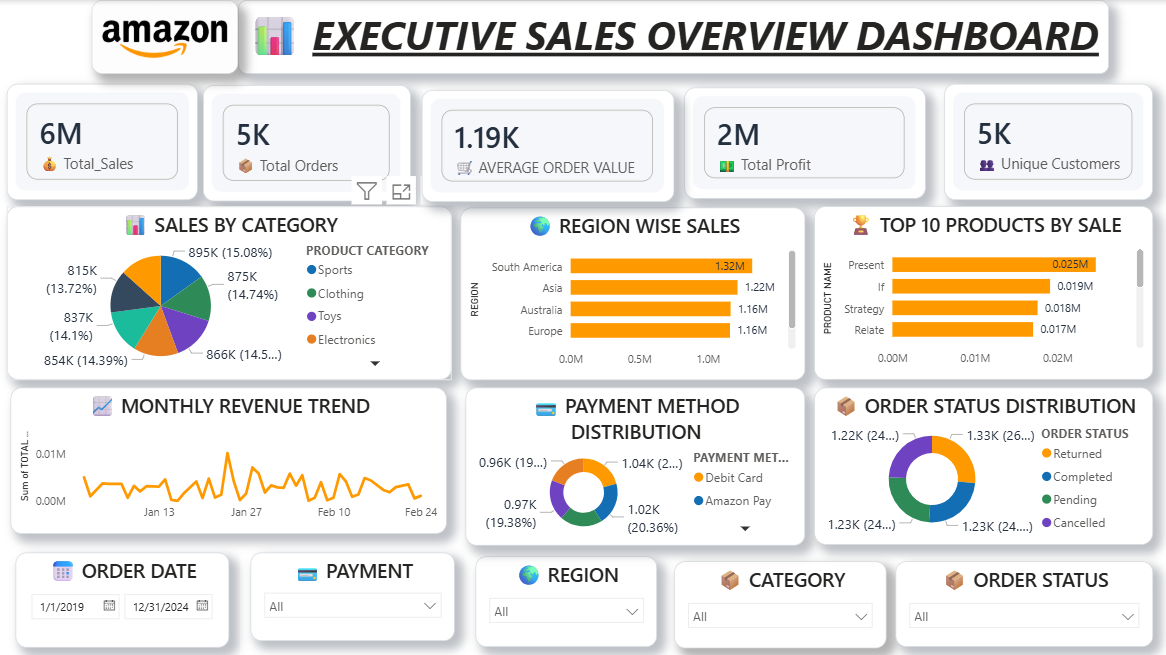

The dashboard page shown, as its layout file describes it:
{"tool":"powerbi","page":{"name":"Page 1","canvas":[1280,720],"ordinal":0},"visuals":[{"type":"textbox","box":[262.3,0,952.4,80.6],"z":0},{"type":"cardVisual","fields":{"Data":["public amazon_sales.Total_Sales"]},"box":[9.6,91.5,209.1,127.1],"z":1000},{"type":"cardVisual","fields":{"Data":["public amazon_sales.Total Profit"]},"box":[750.1,95.6,263.7,121.6],"z":2000},{"type":"cardVisual","fields":{"Data":["public amazon_sales.Total Orders"]},"box":[224.1,92.9,226.8,127.1],"z":3000},{"type":"cardVisual","fields":{"Data":["public amazon_sales.Unique Customers"]},"box":[1034.3,91.5,228.2,127.1],"z":4000},{"type":"pieChart","title":" 📊 SALES BY CATEGORY","fields":{"Category":["public amazon_sales.PRODUCT CATEGORY"],"Y":["Sum(public amazon_sales.TOTAL SALES)"]},"box":[9.6,225.4,486.4,189.9],"z":5000},{"type":"lineChart","title":"📈 MONTHLY REVENUE TREND","fields":{"Y":["Sum(public amazon_sales.TOTAL SALES)"],"Category":["public amazon_sales.ORDER DATE"]},"box":[13.7,423.6,476.9,159.9],"z":6000},{"type":"clusteredBarChart","title":"🌍 REGION WISE SALES","fields":{"Category":["public amazon_sales.REGION"],"Y":["Sum(public amazon_sales.TOTAL SALES)"]},"box":[504.9,226.3,376.6,189],"z":7000},{"type":"clusteredBarChart","title":"🏆 TOP 10 PRODUCTS BY SALE","fields":{"Category":["public amazon_sales.PRODUCT NAME"],"Y":["Sum(public amazon_sales.TOTAL SALES)"]},"box":[891.9,225,370.5,189.4],"z":8000},{"type":"slicer","title":"  📅 ORDER DATE","fields":{"Values":["public amazon_sales.ORDER DATE"]},"box":[19.1,603.9,233.6,103.8],"z":9000},{"type":"slicer","title":" 🌍 REGION","fields":{"Values":["public amazon_sales.REGION"]},"box":[521.5,608.4,198.7,99.3],"z":10000},{"type":"slicer","title":"📦 CATEGORY","fields":{"Values":["public amazon_sales.PRODUCT CATEGORY"]},"box":[739.5,613.9,231.8,95.2],"z":11000},{"type":"image","box":[102.5,0,159.9,80.6],"z":12000},{"type":"donutChart","title":"💳 PAYMENT METHOD DISTRIBUTION","fields":{"Category":["public amazon_sales.PAYMENT METHOD"],"Y":["CountNonNull(public amazon_sales.ORDER ID)"]},"box":[510.5,423.5,371.1,172.5],"z":13000},{"type":"donutChart","title":"📦 ORDER STATUS DISTRIBUTION","fields":{"Category":["public amazon_sales.ORDER STATUS"],"Y":["CountNonNull(public amazon_sales.ORDER ID)"]},"box":[892.2,423.6,370.3,172.2],"z":14000},{"type":"slicer","title":"💳 PAYMENT ","fields":{"Values":["public amazon_sales.PAYMENT METHOD"]},"box":[275.9,604.3,223.5,96.6],"z":15000},{"type":"slicer","title":" 📦 ORDER STATUS","fields":{"Values":["public amazon_sales.ORDER STATUS"]},"box":[980.9,613.9,281.4,93.8],"z":16000},{"type":"cardVisual","fields":{"Data":["public amazon_sales.AOV"]},"box":[463.5,98,275.9,122.8],"z":17000}]}

Visuals, with their boxes in screenshot pixels (x1, y1, x2, y2), scaled from the page's 1280x720 canvas onto the 1166x655 screenshot:
textbox: (239,0,1107,73)
cardVisual - public amazon_sales.Total_Sales: (9,83,199,199)
cardVisual - public amazon_sales.Total Profit: (683,87,924,198)
cardVisual - public amazon_sales.Total Orders: (204,85,411,200)
cardVisual - public amazon_sales.Unique Customers: (942,83,1150,199)
" 📊 SALES BY CATEGORY" pieChart: (9,205,452,378)
"📈 MONTHLY REVENUE TREND" lineChart: (12,385,447,531)
"🌍 REGION WISE SALES" clusteredBarChart: (460,206,803,378)
"🏆 TOP 10 PRODUCTS BY SALE" clusteredBarChart: (812,205,1150,377)
"  📅 ORDER DATE" slicer: (17,549,230,644)
" 🌍 REGION" slicer: (475,553,656,644)
"📦 CATEGORY" slicer: (674,558,885,645)
image: (93,0,239,73)
"💳 PAYMENT METHOD DISTRIBUTION" donutChart: (465,385,803,542)
"📦 ORDER STATUS DISTRIBUTION" donutChart: (813,385,1150,542)
"💳 PAYMENT " slicer: (251,550,455,638)
" 📦 ORDER STATUS" slicer: (894,558,1150,644)
cardVisual - public amazon_sales.AOV: (422,89,674,201)
